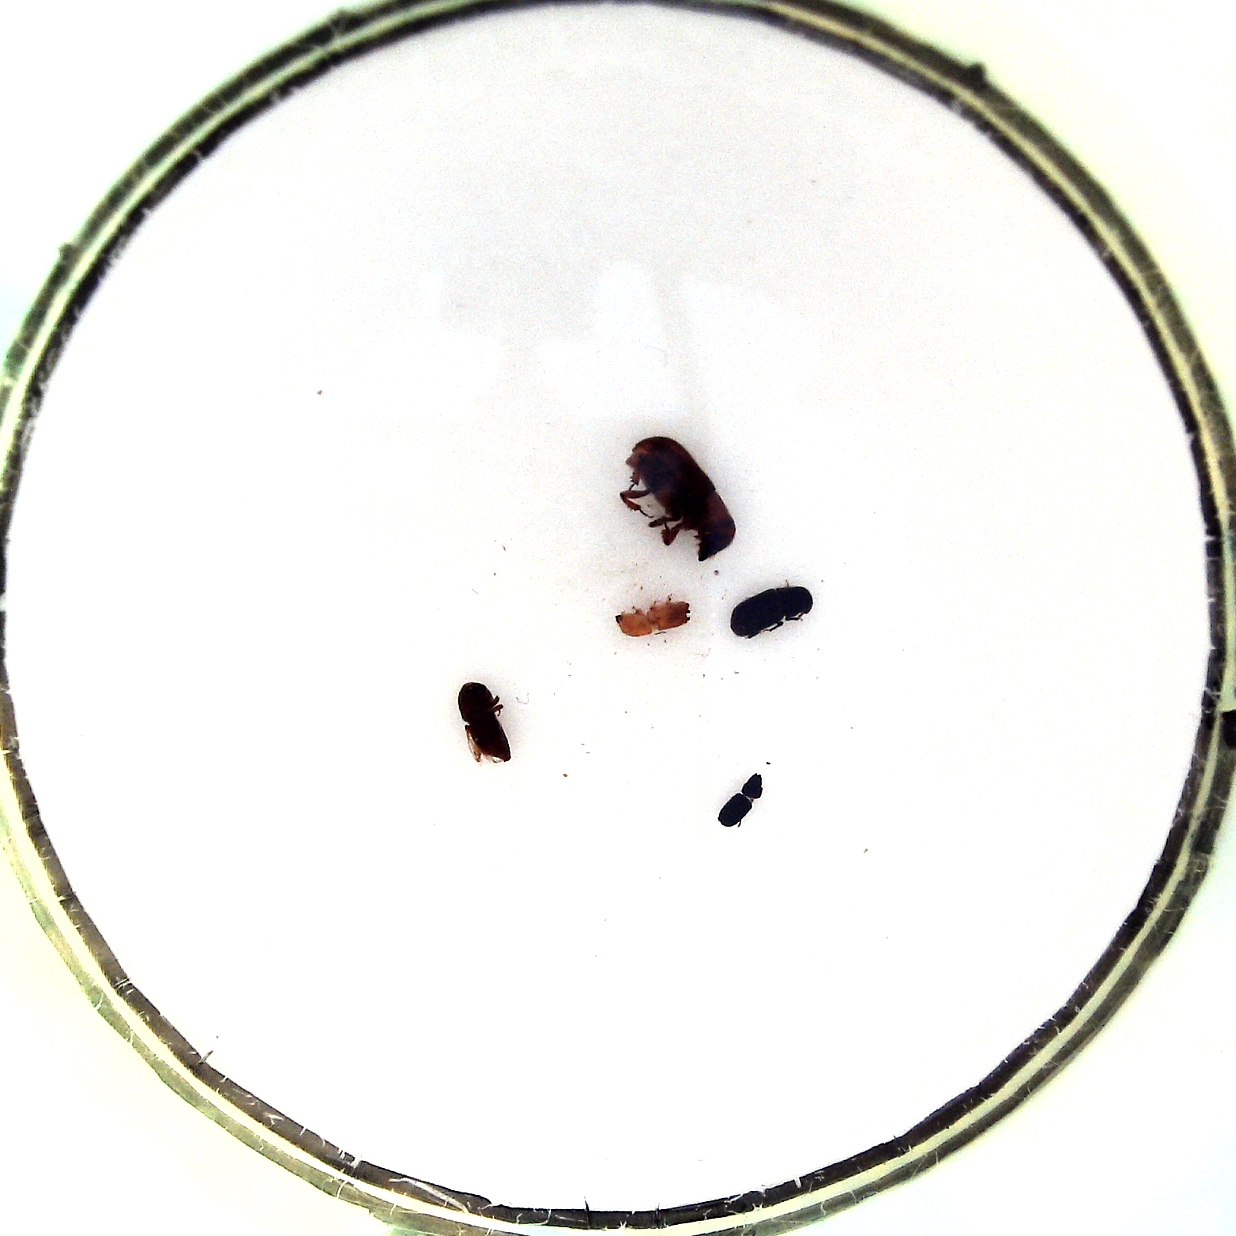Leconte: (616, 430, 739, 563)
Linnaeus: (452, 675, 518, 766)
acuminatus: (611, 593, 695, 635)
armandi: (726, 580, 814, 640)
coleoptera: (714, 771, 769, 829)
